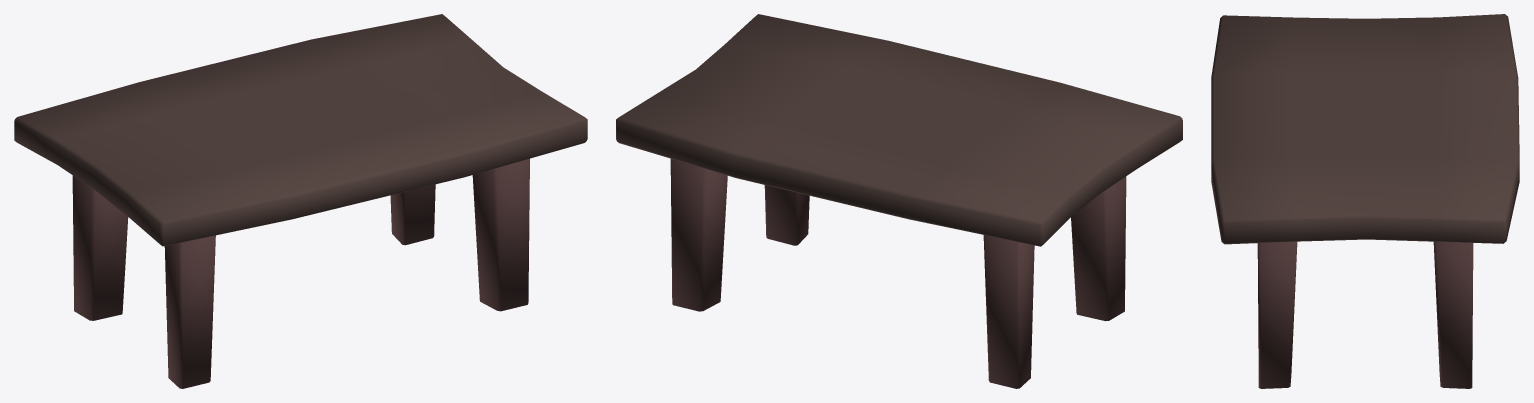
The model's file is table.fbx.
3 renders of one model, left to right at view 1: azimuth 30°, elevation 25°; view 2: azimuth 150°, elevation 25°; view 3: azimuth 270°, elevation 25°, orthographic.
Visible parts, largest first — view 1: table-top, table-leg; view 2: table-top, table-leg; view 3: table-top, table-leg.
Boxes of the visible parts, x1,y1,x2,y2 form: table-top: (14,14,587,246); table-leg: (72,158,529,388); table-top: (616,14,1182,246); table-leg: (670,158,1126,388); table-top: (1211,14,1519,244); table-leg: (1257,241,1473,388).
Bounding box in the file's own units: 679 × 287 × 426.
